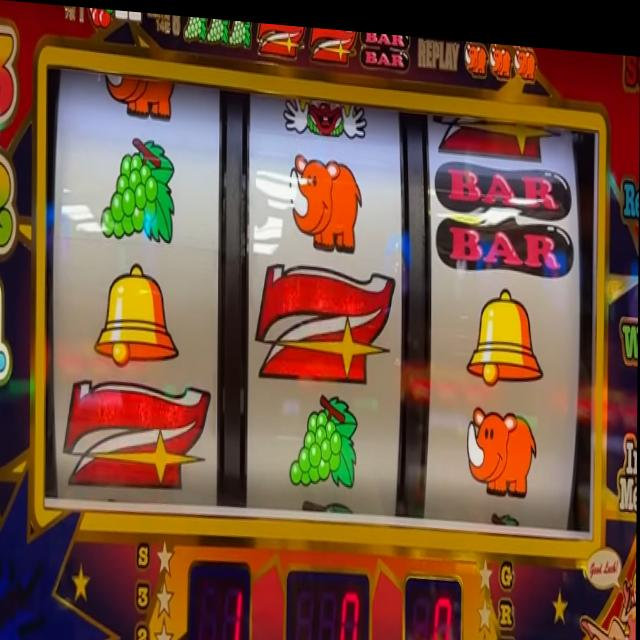bar: (436, 155, 574, 270), (361, 28, 407, 65)
bell: (94, 257, 180, 370), (467, 277, 545, 381)
cherry: (87, 6, 114, 28)
clown: (282, 89, 366, 137)
display: (40, 62, 596, 530)
elephant: (288, 142, 361, 251), (468, 393, 537, 485), (104, 67, 176, 119), (489, 38, 513, 73), (463, 36, 487, 70), (515, 43, 538, 74)
grape: (99, 127, 175, 240), (285, 380, 360, 485), (206, 14, 228, 42), (228, 16, 250, 42), (182, 13, 205, 37)
z: (259, 256, 397, 381), (62, 375, 210, 490), (434, 107, 562, 158), (256, 18, 304, 58), (311, 22, 355, 64)
